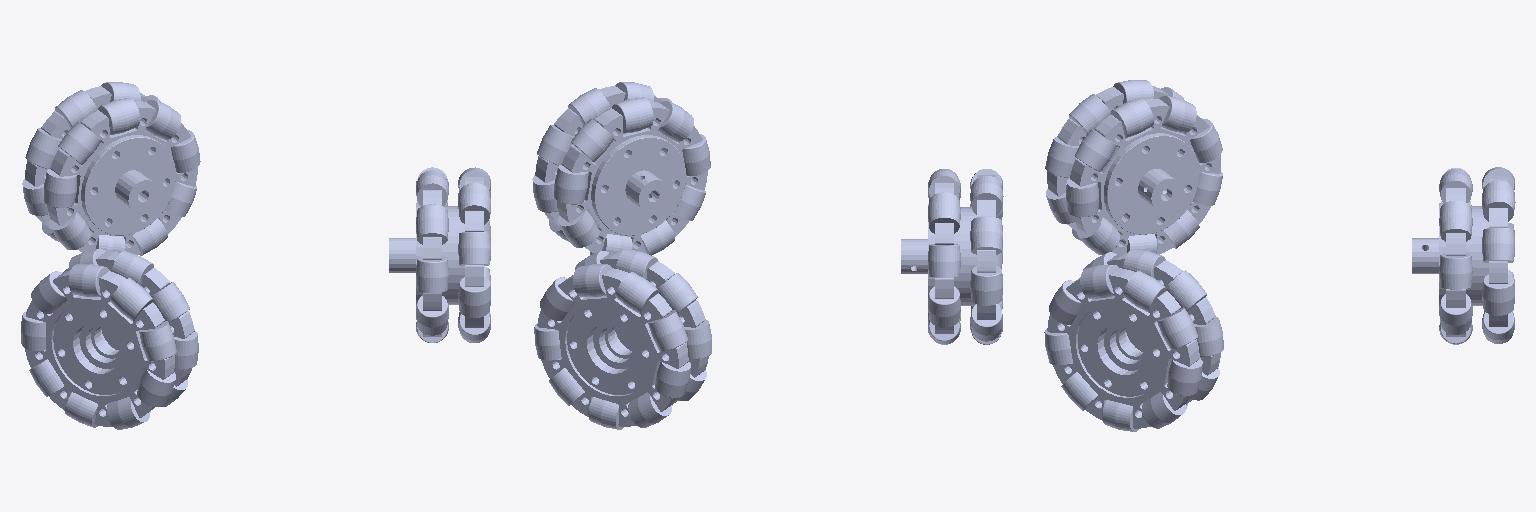
The robot description file, URDF, robot "MAYA_BASE":
<?xml version="1.0" encoding="utf-8"?>

<robot name="MAYA_BASE">
  <link name="base_link">
    <inertial>
      <origin xyz="0.342829462534096 0.798509553467405 1.25184600527758" rpy="0 0 0" />
      <mass value="17.0112103535391" />
      <inertia
        ixx="0.273656740772269"
        ixy="0.000115324299491706"
        ixz="-2.05652855875297E-05"
        iyy="0.145988526797534"
        iyz="0.00468981370233137"
        izz="0.332564607577311" />
    </inertial>
    <visual>
      <origin
        xyz="0 0 0"
        rpy="0 0 0" />
      <geometry>
        <mesh
          filename="package://MAYA_BASE/meshes/base_link.STL" />
      </geometry>
      <material
        name="">
        <color
          rgba="0.792156862745098 0.819607843137255 0.933333333333333 1" />
      </material>
    </visual>
    <collision>
      <origin
        xyz="0 0 0"
        rpy="0 0 0" />
      <geometry>
        <mesh
          filename="package://MAYA_BASE/meshes/base_link.STL" />
      </geometry>
    </collision>
  </link>
  <link
    name="w1">
    <inertial>
      <origin
        xyz="-0.000305151878838783 0.00173175352544974 -0.0200215287628904"
        rpy="0 0 0" />
      <mass
        value="0.209269396052415" />
      <inertia
        ixx="5.00543192169671E-05"
        ixy="-7.41472579941199E-09"
        ixz="8.81626585971795E-14"
        iyy="5.01027550823703E-05"
        iyz="3.44017418786352E-13"
        izz="9.27168366951345E-05" />
    </inertial>
    <visual>
      <origin
        xyz="0 0 0"
        rpy="0 0 0" />
      <geometry>
        <mesh
          filename="package://MAYA_BASE/meshes/w1.STL" />
      </geometry>
      <material
        name="">
        <color
          rgba="0.792156862745098 0.819607843137255 0.933333333333333 1" />
      </material>
    </visual>
    <collision>
      <origin
        xyz="0 0 0"
        rpy="0 0 0" />
      <geometry>
        <mesh
          filename="package://MAYA_BASE/meshes/w1.STL" />
      </geometry>
    </collision>
  </link>

  <joint
    name="q1"
    type="continuous">
    <origin
      xyz="0.249229494265412 -1.28190732139834 0.158609030813292"
      rpy="1.57079632679489 -1.25276450199052 2.0943951023932" />
    <parent
      link="base_link" />
    <child
      link="w1" />
    <axis
      xyz="0 0 1" />
  </joint>
  <link
    name="w2">
    <inertial>
      <origin
        xyz="-0.000305151840763851 0.00173175351778157 -0.0901196987748394"
        rpy="0 0 0" />
      <mass
        value="0.209269394929712" />
      <inertia
        ixx="5.00543190860832E-05"
        ixy="-7.41470855711783E-09"
        ixz="3.45196842708702E-14"
        iyy="5.01027549438184E-05"
        iyz="3.99108362478191E-13"
        izz="9.27168367165807E-05" />
    </inertial>
    <visual>
      <origin
        xyz="0 0 0"
        rpy="0 0 0" />
      <geometry>
        <mesh
          filename="package://MAYA_BASE/meshes/w2.STL" />
      </geometry>
      <material
        name="">
        <color
          rgba="0.792156862745098 0.819607843137255 0.933333333333333 1" />
      </material>
    </visual>
    <collision>
      <origin
        xyz="0 0 0"
        rpy="0 0 0" />
      <geometry>
        <mesh
          filename="package://MAYA_BASE/meshes/w2.STL" />
      </geometry>
    </collision>
  </link>
  <joint
    name="q2"
    type="continuous">
    <origin
      xyz="0.375480449082314 -1.24685823647147 0.158609030813292"
      rpy="1.57079632679489 -0.35012305570742 -2.09439510239319" />
    <parent
      link="base_link" />
    <child
      link="w2" />
    <axis
      xyz="0 0 1" />
  </joint>
  <link
    name="w3">
    <inertial>
      <origin
        xyz="-0.000305151838472767 0.0017317535914142 0.0234784713873206"
        rpy="0 0 0" />
      <mass
        value="0.209269397005923" />
      <inertia
        ixx="5.00543193930365E-05"
        ixy="-7.41473511448318E-09"
        ixz="4.48813024030456E-14"
        iyy="5.0102755158197E-05"
        iyz="1.90869124981301E-13"
        izz="9.2716836767049E-05" />
    </inertial>
    <visual>
      <origin
        xyz="0 0 0"
        rpy="0 0 0" />
      <geometry>
        <mesh
          filename="package://MAYA_BASE/meshes/w3.STL" />
      </geometry>
      <material
        name="">
        <color
          rgba="0.792156862745098 0.819607843137255 0.933333333333333 1" />
      </material>
    </visual>
    <collision>
      <origin
        xyz="0 0 0"
        rpy="0 0 0" />
      <geometry>
        <mesh
          filename="package://MAYA_BASE/meshes/w3.STL" />
      </geometry>
    </collision>
  </link>
  <joint
    name="q3"
    type="continuous">
    <origin
      xyz="0.342708369599926 -1.07849715988456 0.158609030813292"
      rpy="-1.5707963267949 -0.643727856982557 3.14159265358979" />
    <parent
      link="base_link" />
    <child
      link="w3" />
    <axis
      xyz="0 0 1" />
  </joint>
</robot>

--- Facts derived from the render (not from the file) ---
3 views of the same robot in one strip: view 1: azimuth 30°, elevation 25°; view 2: azimuth 150°, elevation 25°; view 3: azimuth 270°, elevation 25° (orthographic).
Model MAYA_BASE with 4 links and 3 joints (3 continuous), rooted at base_link, posed all joints at 0.
Links seen in each view (by area): view 1: w1, w3, w2; view 2: w3, w2, w1; view 3: w2, w1, w3.
Boxes of the visible links, box(x1,y1,x2,y2) form: w1: box(21, 249, 198, 429); w3: box(22, 82, 200, 255); w2: box(389, 167, 490, 342); w3: box(534, 249, 711, 429); w2: box(532, 82, 710, 255); w1: box(901, 169, 1003, 344); w2: box(1044, 249, 1223, 431); w1: box(1045, 80, 1222, 254); w3: box(1412, 167, 1515, 344).
Bounding box of the posed robot: 0.305 × 0.2649 × 0.1001 m (x, y, z).
3 mesh visuals loaded from 4 distinct referenced files (3 binary STL); not drawn: 1 (reference not matched to a file when rendering).